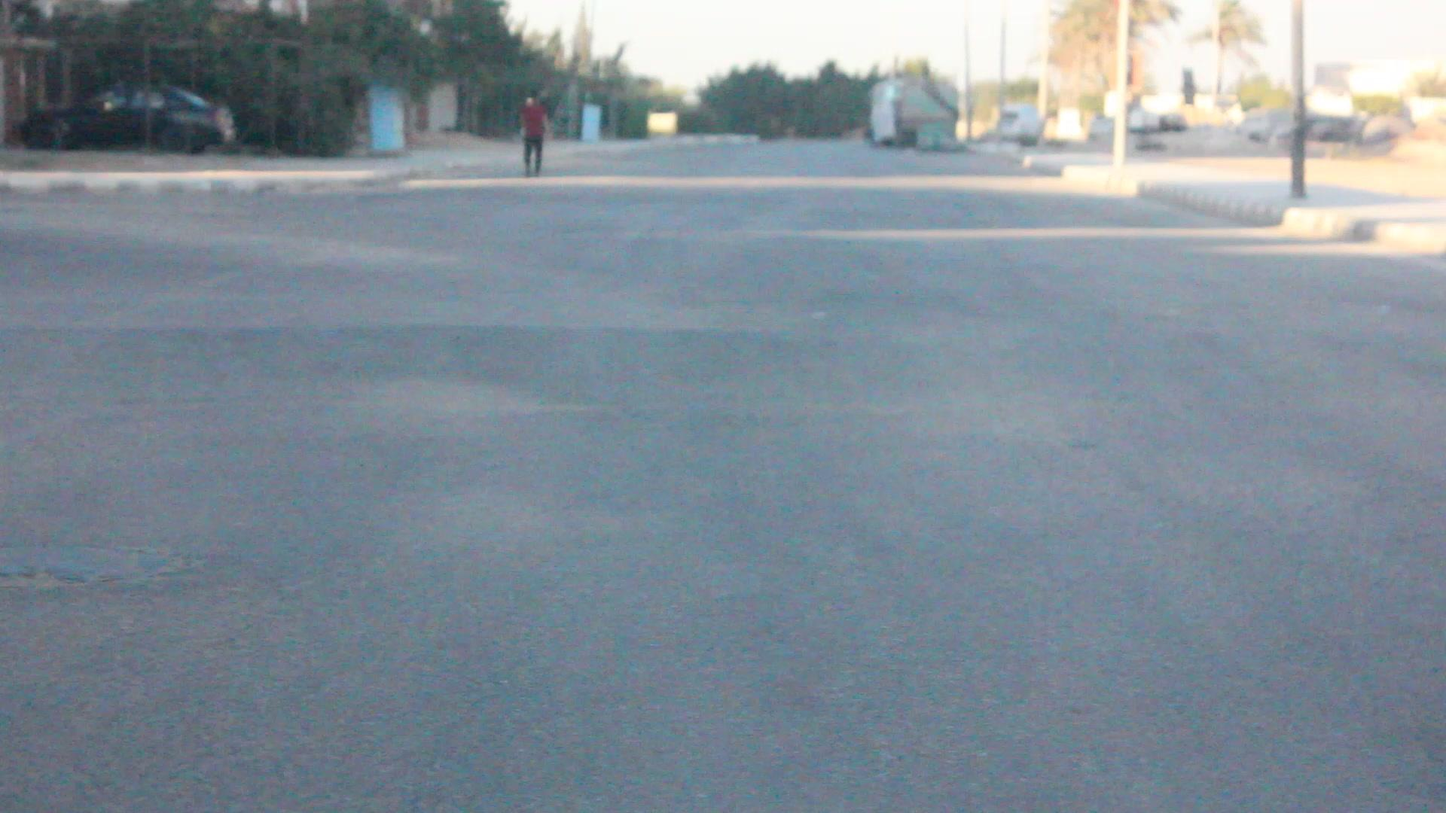Bump: (4, 301, 1446, 384)
